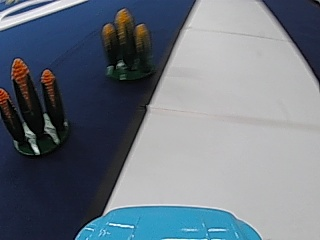corn: (4, 58, 70, 156), (101, 6, 155, 84)
